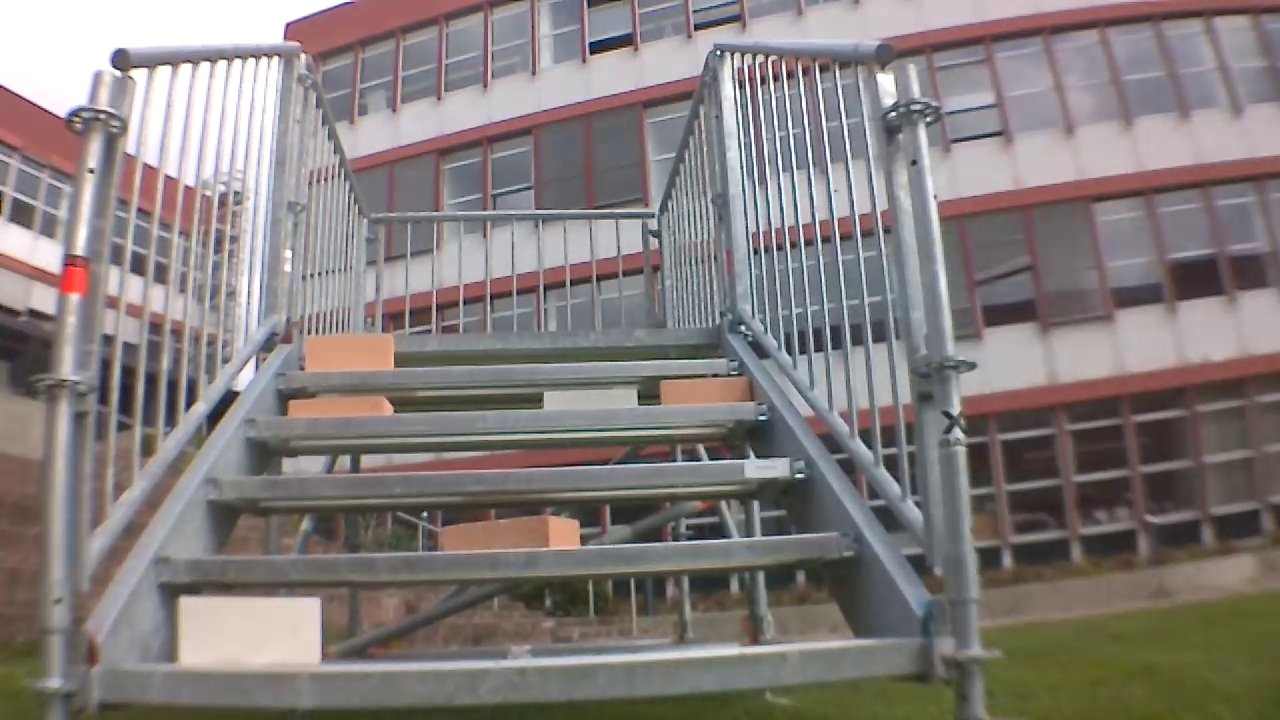brick: (180, 595, 320, 668), (438, 515, 578, 549), (306, 334, 394, 370), (661, 377, 749, 404), (288, 397, 392, 417), (544, 389, 636, 409)
edge: (102, 639, 916, 703), (156, 530, 854, 582), (203, 457, 810, 499), (245, 402, 773, 436), (277, 359, 744, 384), (297, 328, 723, 348)
stairs: (39, 37, 991, 719)
steps: (94, 325, 928, 711)
